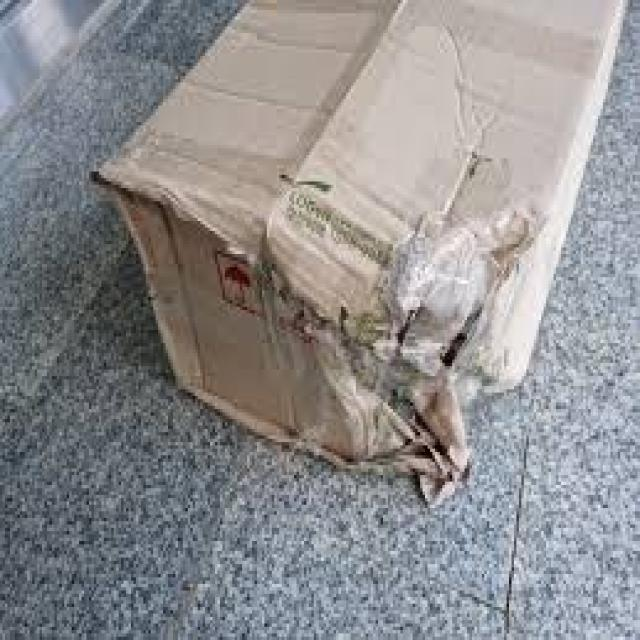box: (134, 1, 621, 476)
crushed: (290, 231, 538, 503)
